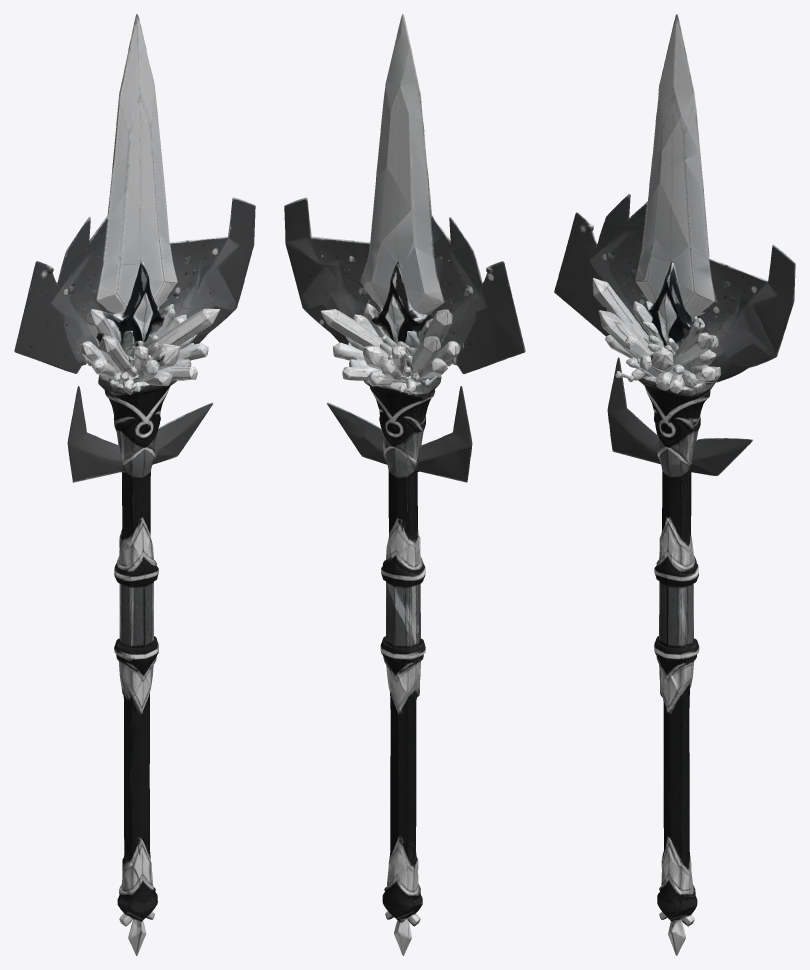
The model's file is naoh-spear-lowpoly.glb.
3 renders of one model, left to right at view 1: azimuth 30°, elevation 25°; view 2: azimuth 150°, elevation 25°; view 3: azimuth 330°, elevation 25°, orthographic.
Parts seen in each view (by area): view 1: Frostburst Crystal Spear; view 2: Frostburst Crystal Spear; view 3: Frostburst Crystal Spear.
Boxes of the visible parts, x1,y1,x2,y2 form: Frostburst Crystal Spear: (14,14,255,955); Frostburst Crystal Spear: (284,14,525,955); Frostburst Crystal Spear: (554,14,795,955).
Bounding box in the file's own units: 0.509 × 1.9 × 0.2286.
Materials: 1 (1 with a texture image).
